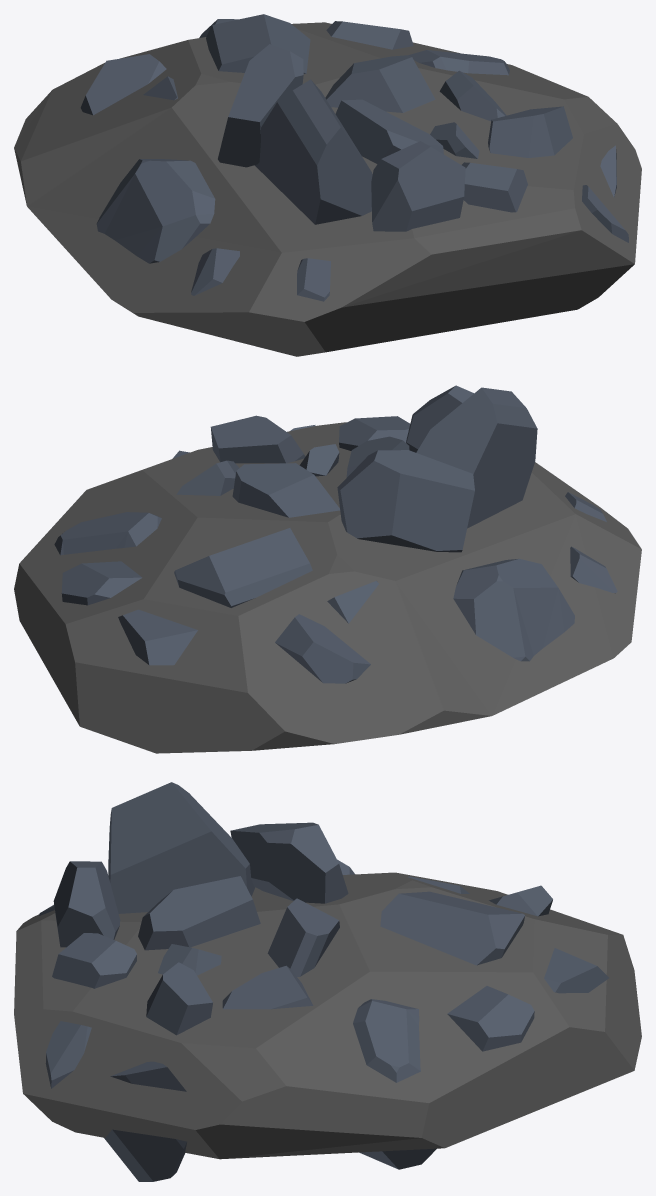
Rendered from Metal_Deposit_B_UVs.fbx.
The picture shows the model from 3 angles, top to bottom: view 1: azimuth 30°, elevation 25°; view 2: azimuth 150°, elevation 25°; view 3: azimuth 270°, elevation 25°; orthographic projection.
Visible parts, largest first — view 1: SM_Metal_B; view 2: SM_Metal_B; view 3: SM_Metal_B.
Part boxes in pixels (left/top/right/bottom): SM_Metal_B: left=14, top=14, right=641, bottom=356; SM_Metal_B: left=14, top=385, right=641, bottom=753; SM_Metal_B: left=14, top=782, right=641, bottom=1181.
Size of the model in its own units: 352 by 178 by 374.
